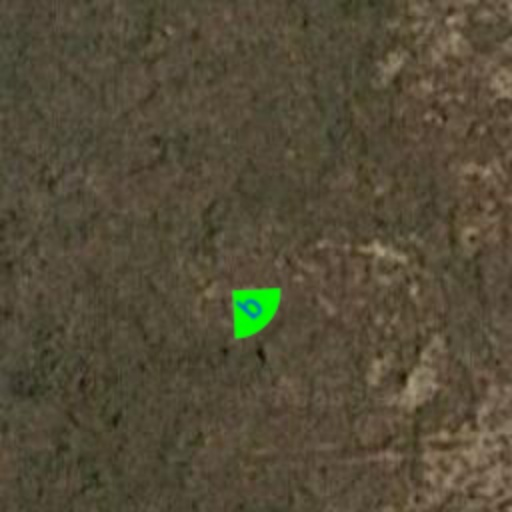quarter_circle: (208, 264, 300, 356)
